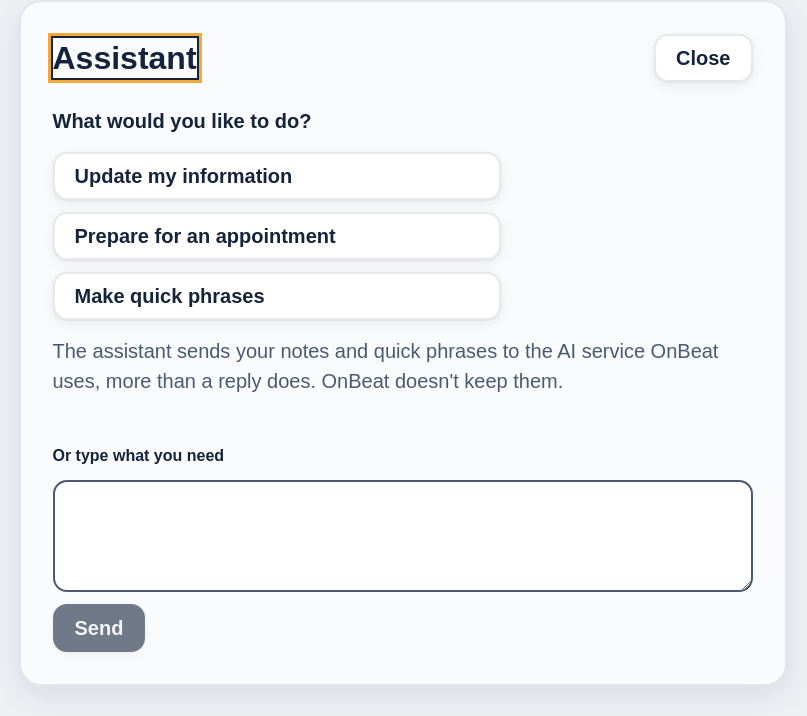
it: AssistantScreen › marks a message that wasn't sent and tries again
Type "Hello" into the text box labelled "Or type what you need" at (402, 536), box 52,480 -> 752,592
Then press Enter
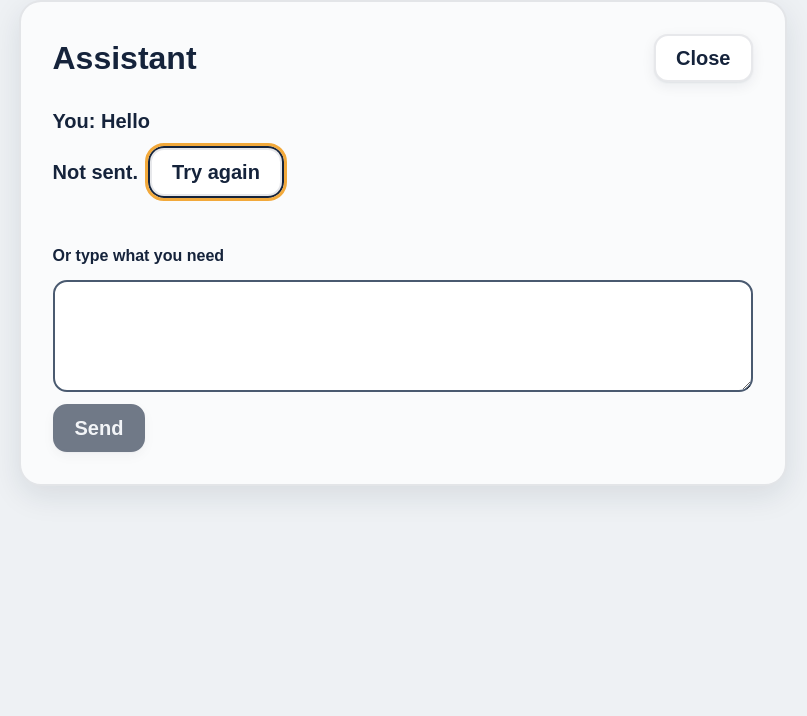
Expected: the text "Not sent." is shown, 52,157 -> 138,187
Click the button "Try again" at (216, 172), box 150,148 -> 282,196
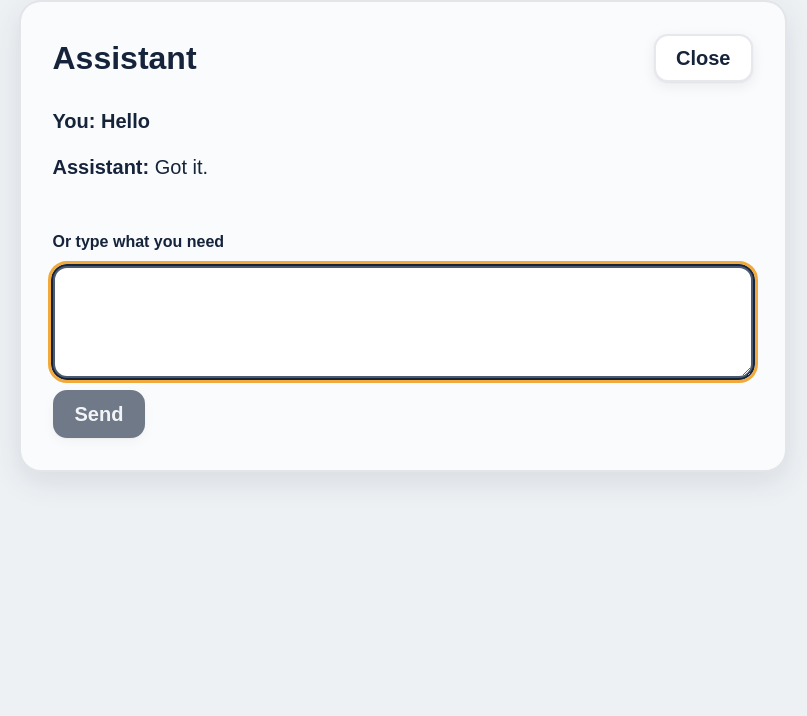
Expected: the text "Got it." is shown, 155,156 -> 208,178
